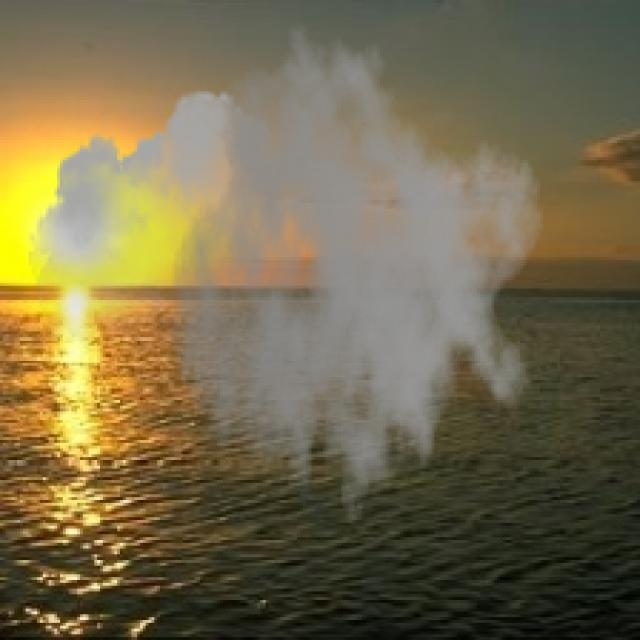smoke: (28, 23, 546, 551)
